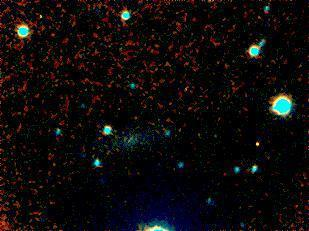star: (245, 132, 275, 162)
